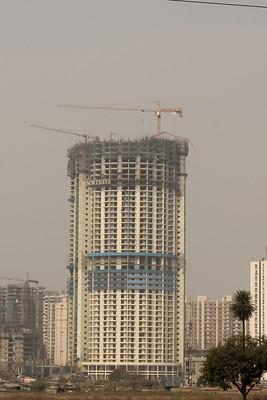building: (61, 133, 187, 390)
